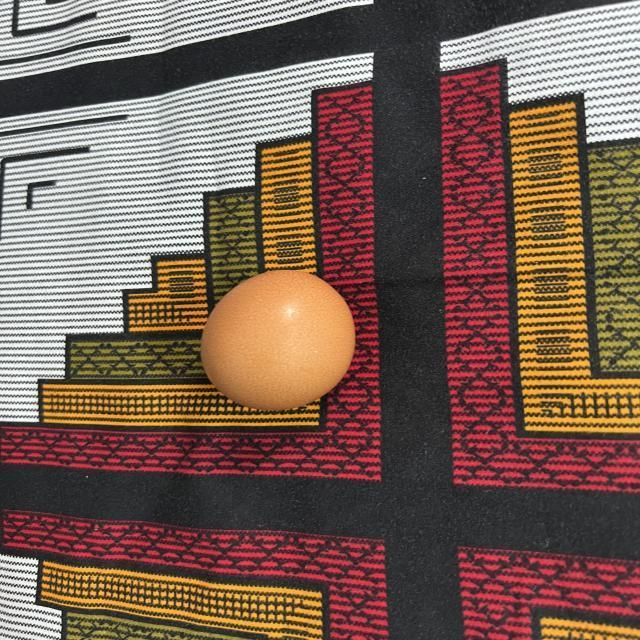egg: (189, 265, 359, 414)
